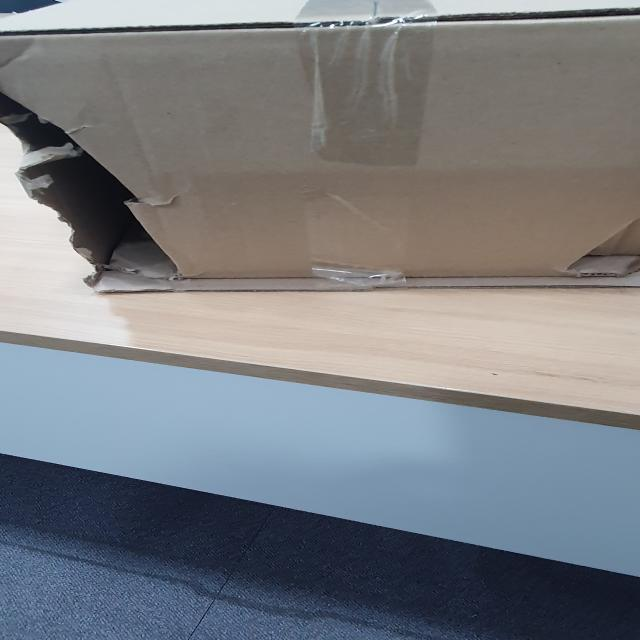hole: (0, 90, 184, 288)
